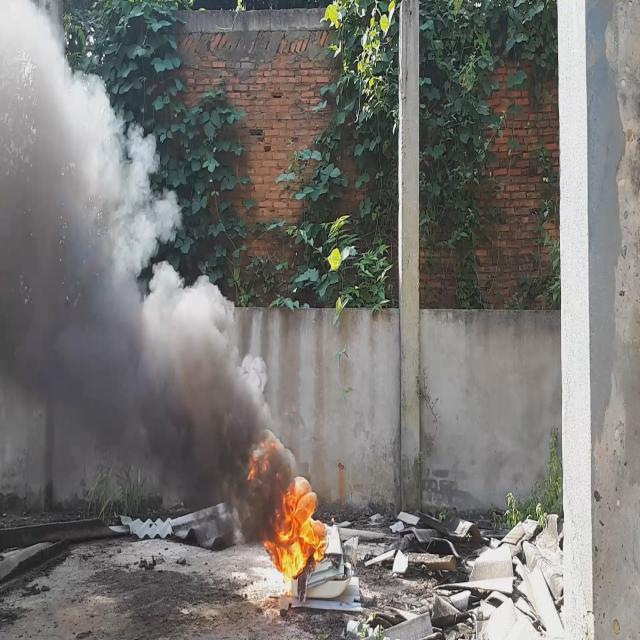Fire: (263, 476, 333, 591)
Smoke: (0, 0, 296, 536)
